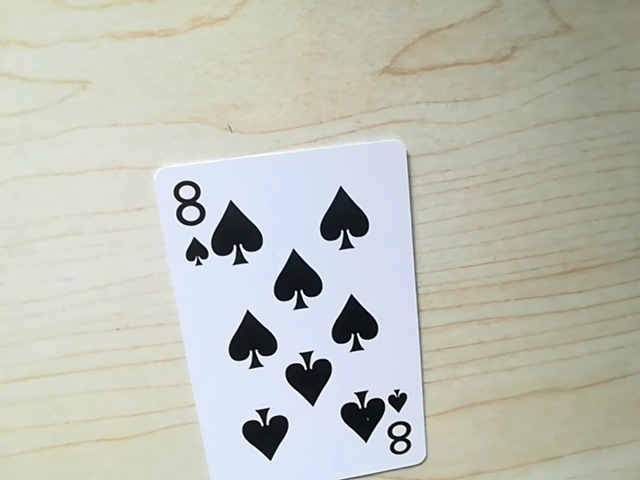ht 8: (163, 168, 216, 268), (370, 397, 417, 463)
